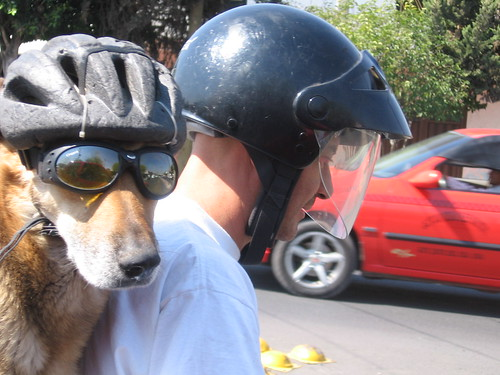helmet: (178, 2, 408, 144)
